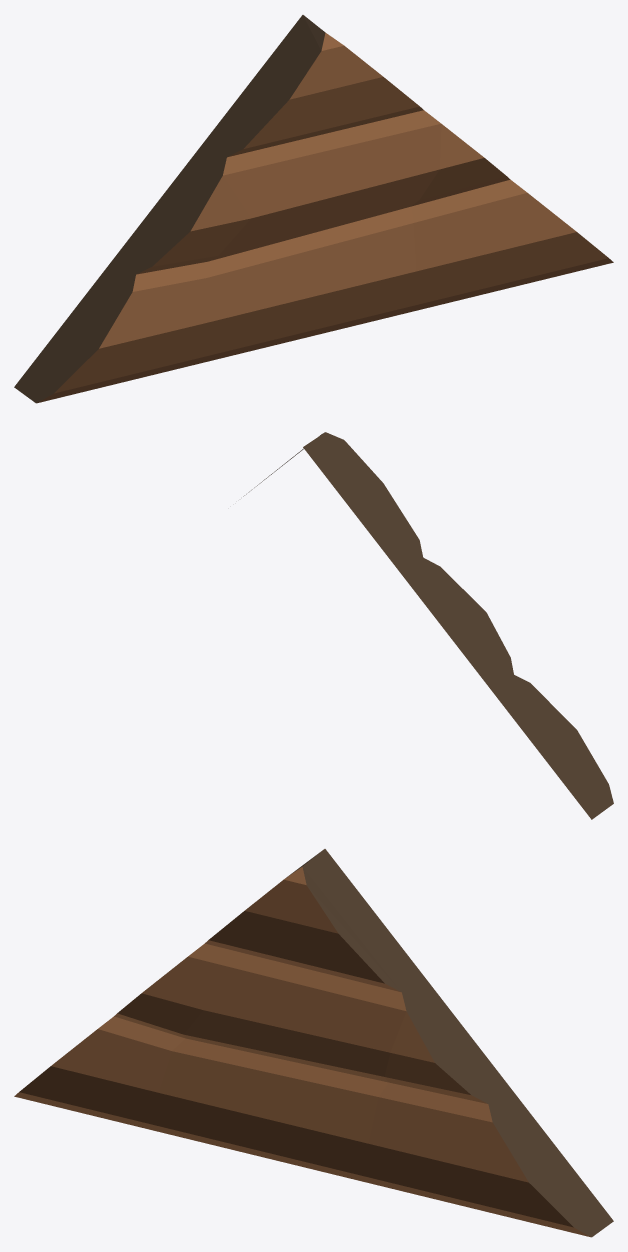
Rendered from buildings-wall-wood-horizontal-end-3m.glb.
3 renders of one model, top to bottom at view 1: azimuth 30°, elevation 25°; view 2: azimuth 150°, elevation 25°; view 3: azimuth 330°, elevation 25°, orthographic.
Visible parts, largest first — view 1: wall-wood-horizontal-end-3m; view 2: wall-wood-horizontal-end-3m; view 3: wall-wood-horizontal-end-3m.
Boxes of the visible parts, bbox=[...] form: wall-wood-horizontal-end-3m: bbox=[14, 15, 613, 403]; wall-wood-horizontal-end-3m: bbox=[243, 432, 613, 819]; wall-wood-horizontal-end-3m: bbox=[14, 849, 613, 1237].
Bounding box in the file's own units: 3 × 1.5 × 0.3235.
